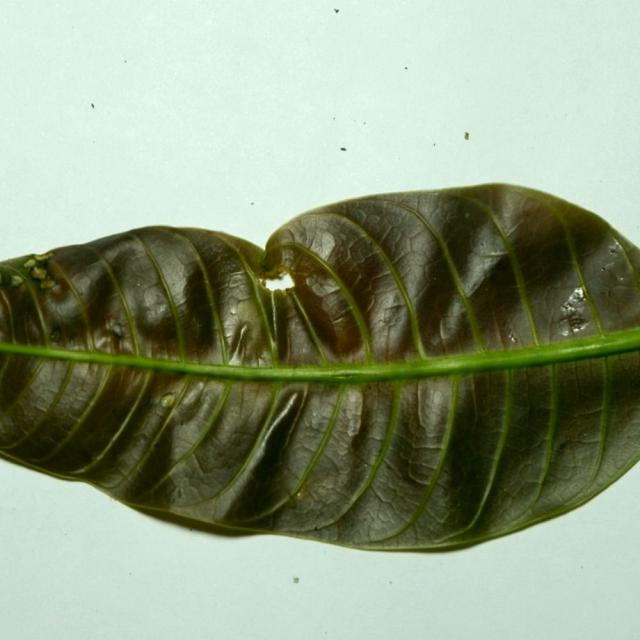Anthracnose: (260, 265, 321, 359), (264, 248, 303, 317), (3, 253, 59, 294), (259, 248, 304, 291), (290, 366, 368, 379), (0, 263, 30, 288), (273, 226, 298, 250), (107, 321, 125, 340), (258, 255, 273, 274), (159, 392, 176, 408), (287, 492, 300, 508), (295, 486, 307, 500), (258, 269, 270, 282)
Mango: (0, 182, 639, 557)
